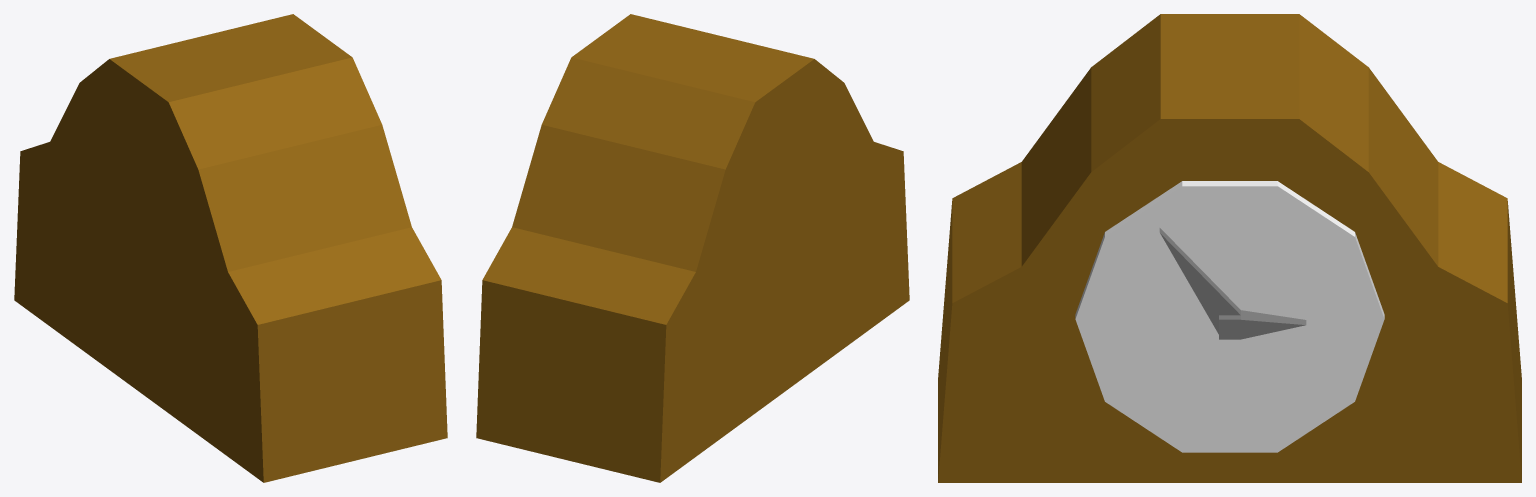
File: tablewatchwood01.gltf
3 views of the same model, side by side, from view 1: azimuth 30°, elevation 25°; view 2: azimuth 150°, elevation 25°; view 3: azimuth 270°, elevation 25° (orthographic). The views are drawn at different scales.
Visible parts, largest first — view 1: Cube; view 2: Cube; view 3: Cube.
Part boxes in pixels (x1,y1,x2,y2): Cube: [14, 14, 447, 482]; Cube: [476, 14, 909, 482]; Cube: [938, 14, 1521, 482].
Size of the model in its own units: 0.0766 by 0.1085 by 0.1577.
Materials: 1 (1 with a texture image).
